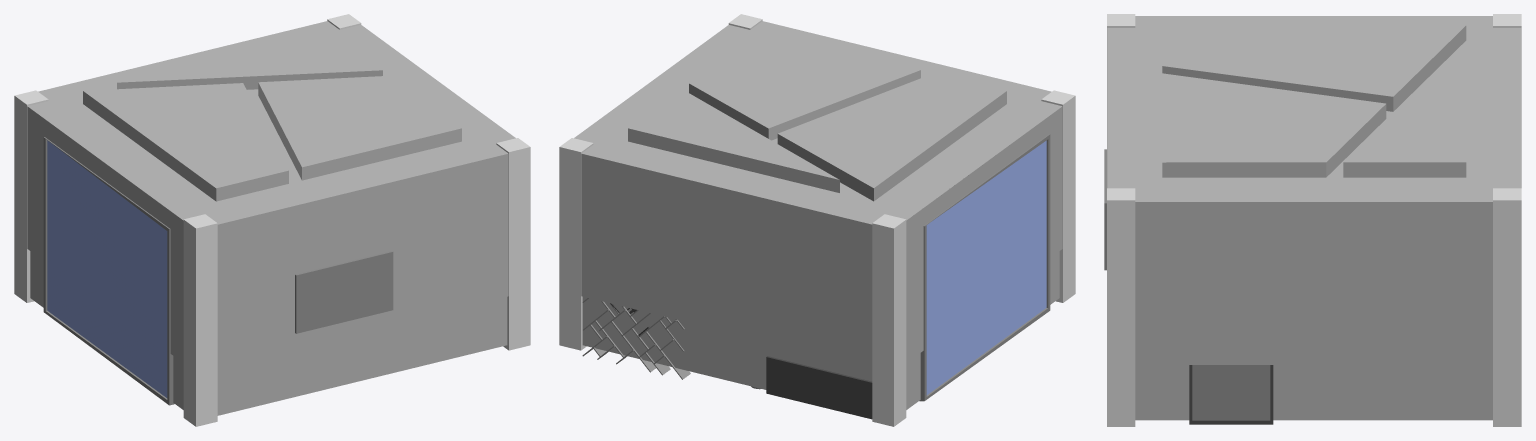
Rendered from jobcenter_room01.fbx.
3 views of the same model, side by side, from view 1: azimuth 30°, elevation 25°; view 2: azimuth 150°, elevation 25°; view 3: azimuth 270°, elevation 25° (orthographic). The views are drawn at different scales.
Parts seen in each view (by area): view 1: Object317, Object314, Object285, Object284, Object283, Object315, Box4893, Box4517, Box4895, Box4521, window01; view 2: Object317, Object314, Object285, Object284, Object283, Object315, Box4521, Box4894, Box4893, window01, Box4520, Box4518 (+1 smaller); view 3: Object317, Object314, Object285, Object283, Object315, Box4894, Box4895, Box4280, Box4442, Box4521, Box4893, Box4517.
Boxes of the visible parts, box(x1,y1,x2,y2) form: Object317: box(27, 106, 508, 366); Object314: box(83, 31, 461, 188); Object285: box(27, 21, 515, 224); Object284: box(47, 140, 167, 397); Object283: box(30, 251, 507, 415); Object315: box(83, 70, 461, 201); Box4893: box(183, 214, 217, 426); Box4517: box(295, 251, 393, 333); Box4895: box(496, 138, 530, 350); Box4521: box(14, 90, 48, 302); window01: box(43, 137, 174, 405); Object317: box(581, 106, 1062, 366); Object314: box(628, 31, 1006, 201); Object285: box(574, 21, 1061, 224); Object284: box(926, 140, 1046, 394); Object283: box(582, 251, 1059, 409); Object315: box(628, 70, 1006, 201); Box4521: box(872, 214, 906, 426); Box4894: box(559, 138, 593, 350); Box4893: box(1041, 90, 1075, 302); window01: box(919, 134, 1050, 401); Box4520: box(766, 356, 802, 401); Box4518: box(837, 373, 872, 419); Object317: box(1135, 202, 1492, 364); Object314: box(1162, 25, 1466, 177); Object285: box(1107, 16, 1521, 201); Object283: box(1135, 365, 1492, 420); Object315: box(1162, 26, 1466, 177); Box4894: box(1493, 188, 1521, 426); Box4895: box(1107, 188, 1135, 426); Box4280: box(1192, 365, 1270, 420); Box4442: box(1189, 365, 1273, 424); Box4521: box(1493, 14, 1521, 187); Box4893: box(1107, 14, 1135, 148); Box4517: box(1104, 149, 1107, 270).
Size of the model in its own units: 15460 by 9514 by 14602.
